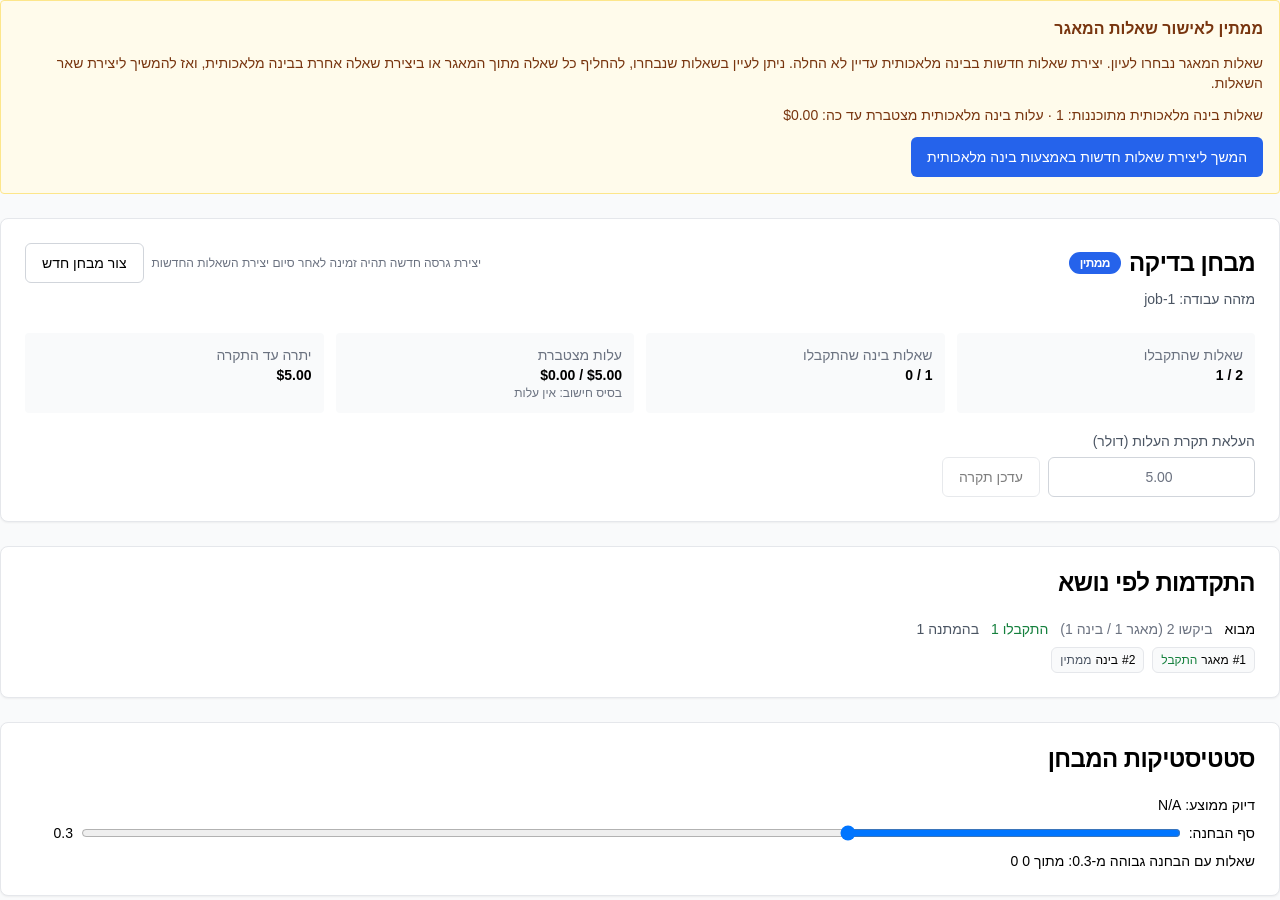
Test: WP27R - reliable Continue claim and polling › applies the returned claimed state immediately, independent of a slow follow-up GET
What coordinates should you click on to do the following:
click the button with test id "continue-llm-button"
I would click on:
 (1087, 157)
Its box is left=911, top=137, right=1263, bottom=177.
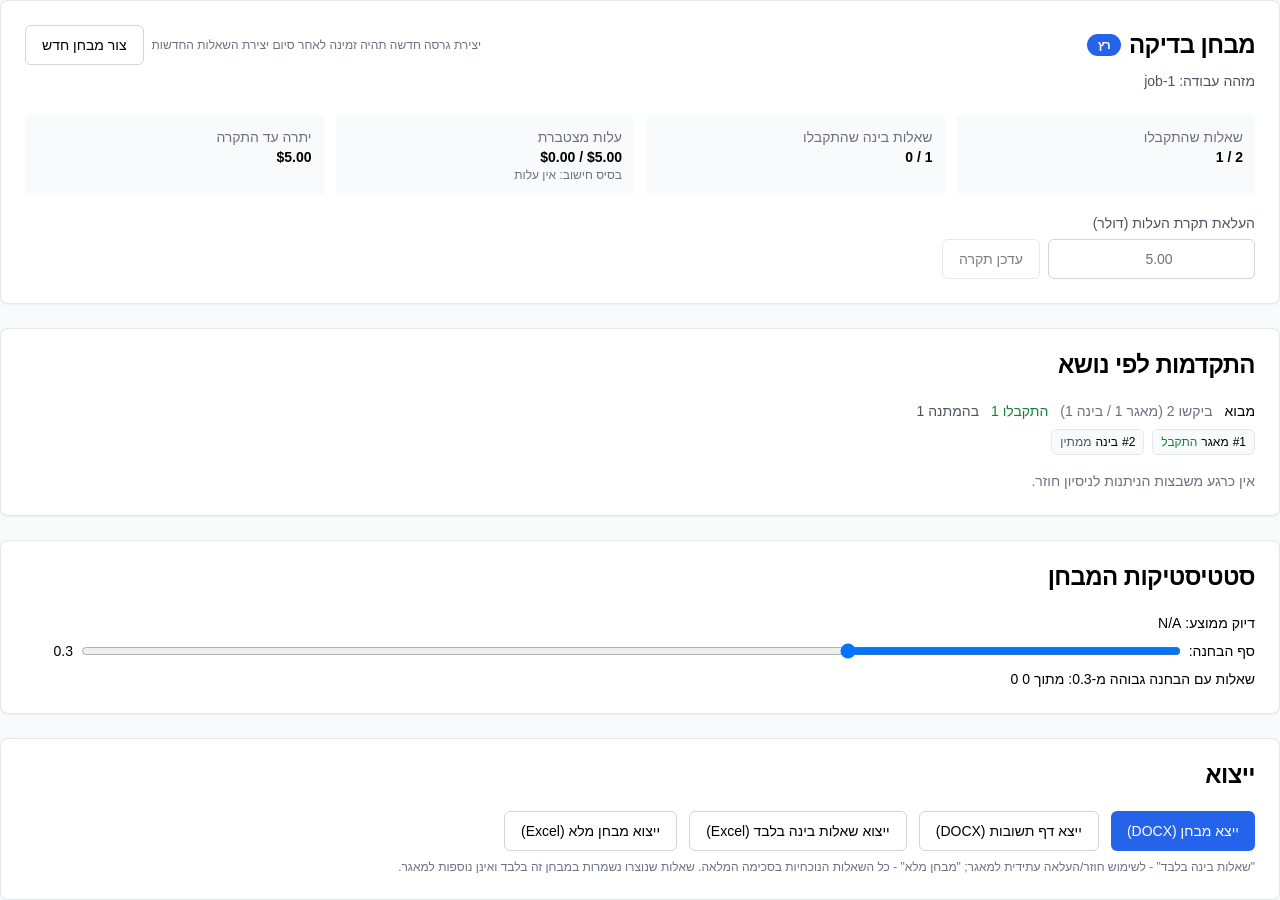
Expected: the text with test id "job-status" reads "רץ", left=1098, top=38, right=1110, bottom=52
Expected: the button with test id "continue-llm-button" is gone
Expected: the element with test id "db-review-banner" is gone
